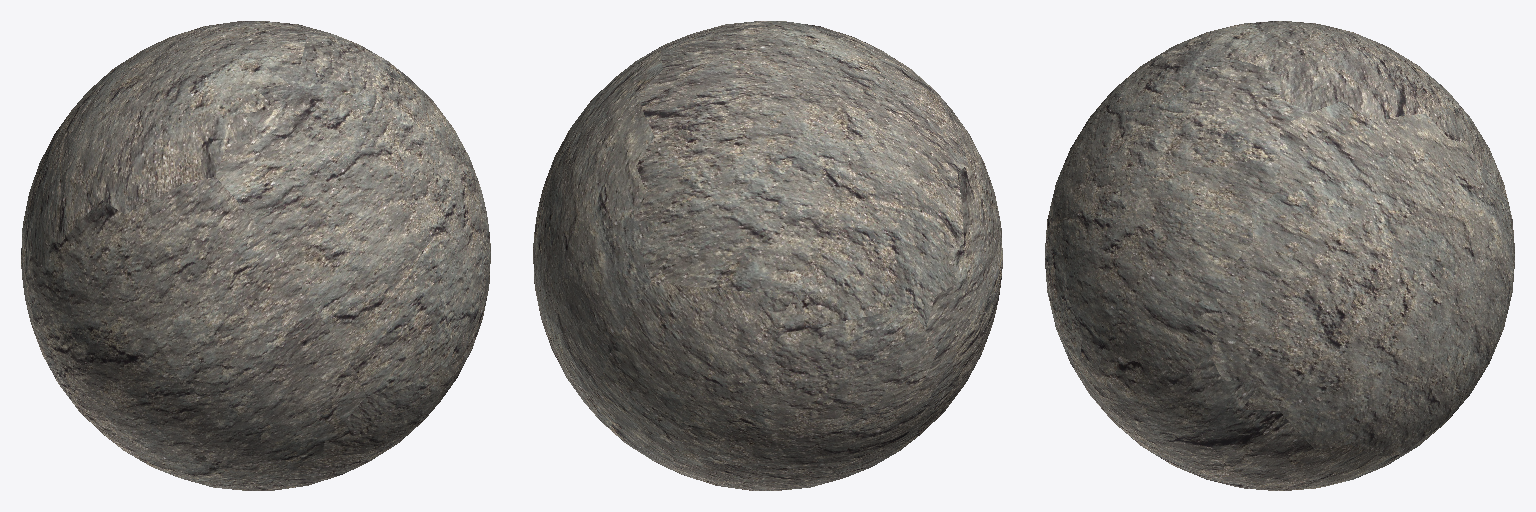
3 views of the same model, side by side, from view 1: azimuth 30°, elevation 25°; view 2: azimuth 150°, elevation 25°; view 3: azimuth 270°, elevation 25° (orthographic).
Parts seen in each view (by area): view 1: Icosphere; view 2: Icosphere; view 3: Icosphere.
Boxes of the visible parts, x1,y1,x2,y2 form: Icosphere: [21, 21, 490, 490]; Icosphere: [533, 21, 1002, 490]; Icosphere: [1045, 21, 1514, 490].
Bounding box in the file's own units: 2 × 2 × 2.
1 materials, 1 textured.